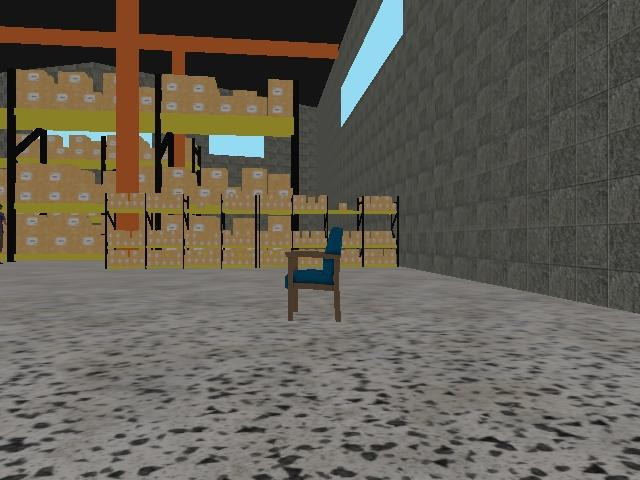chair: (283, 225, 345, 324)
